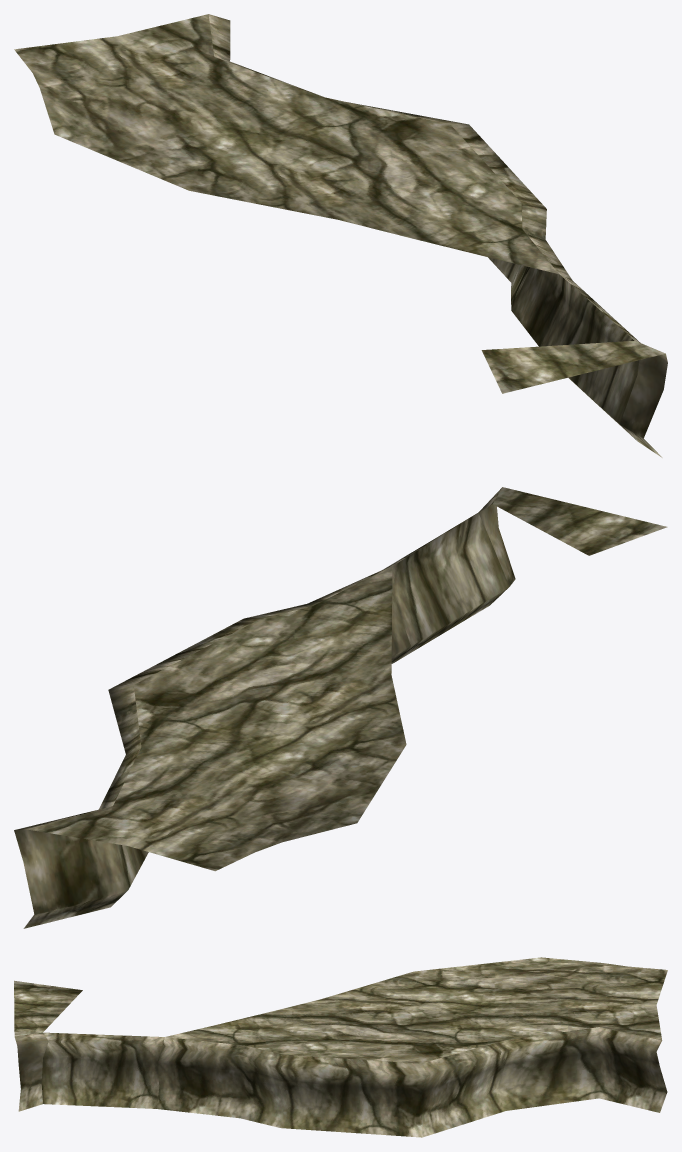
Rendered from CB_NEWPLAYSURFACE_CB_PLAYSURFACE79.fbx.
The picture shows the model from 3 angles, top to bottom: view 1: azimuth 30°, elevation 25°; view 2: azimuth 150°, elevation 25°; view 3: azimuth 270°, elevation 25°; orthographic projection. The views are drawn at different scales.
Parts seen in each view (by area): view 1: CB_NEWPLAYSURFACE_CB_PLAYSURFACE79; view 2: CB_NEWPLAYSURFACE_CB_PLAYSURFACE79; view 3: CB_NEWPLAYSURFACE_CB_PLAYSURFACE79.
Boxes of the visible parts, x1,y1,x2,y2 form: CB_NEWPLAYSURFACE_CB_PLAYSURFACE79: (14,14,667,457); CB_NEWPLAYSURFACE_CB_PLAYSURFACE79: (14,487,667,928); CB_NEWPLAYSURFACE_CB_PLAYSURFACE79: (14,957,667,1137).
Bounding box in the file's own units: 99381 × 32594 × 243896.
2 materials, 2 textured.
